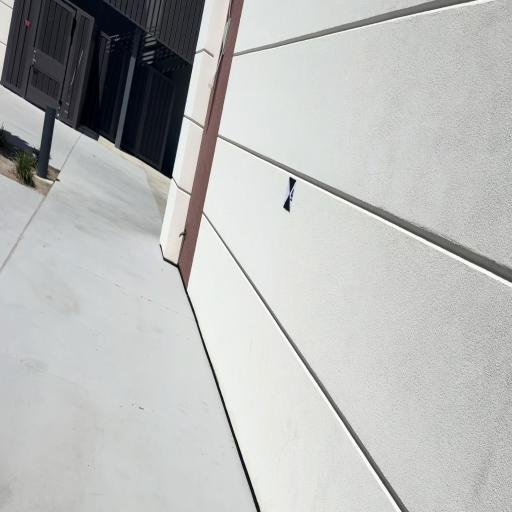target4: (283, 176, 297, 213)
